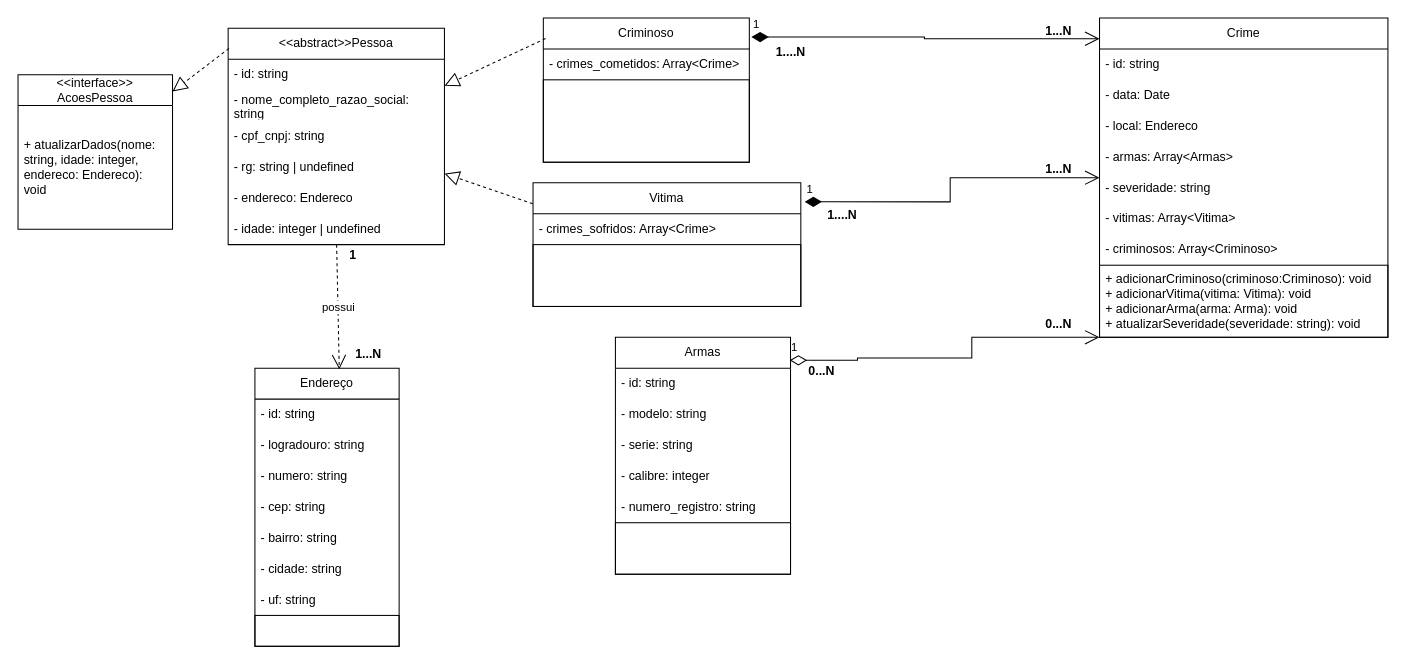
This 1406x665 diagram has some shape labels left out. The shapes that lost their labels are listed below. From the top down, each one's centre as x and y in pixels, then its label:
the point at 645,120: + cometerCrime():void
the point at 666,275: + sofrerCrime(): void
the point at 702,548: + identificarPortador(): Criminoso
